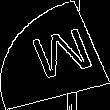M_S: (17, 23, 93, 87)
